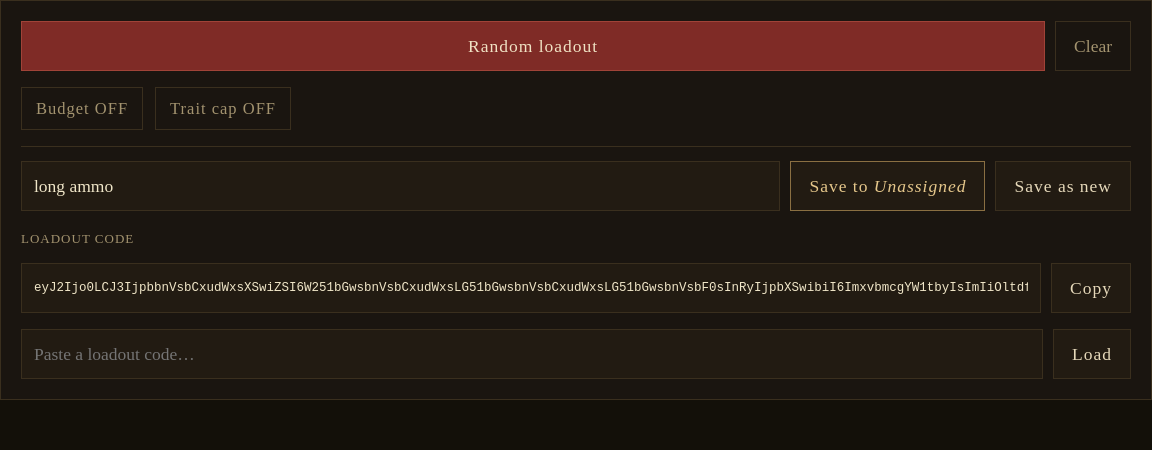
it: Save as new (issue #136 follow-up) › saves without id, and re-points the session at the new record
Step 1. Click the button "Save as new" → [1063, 186], box [996,161,1131,211]
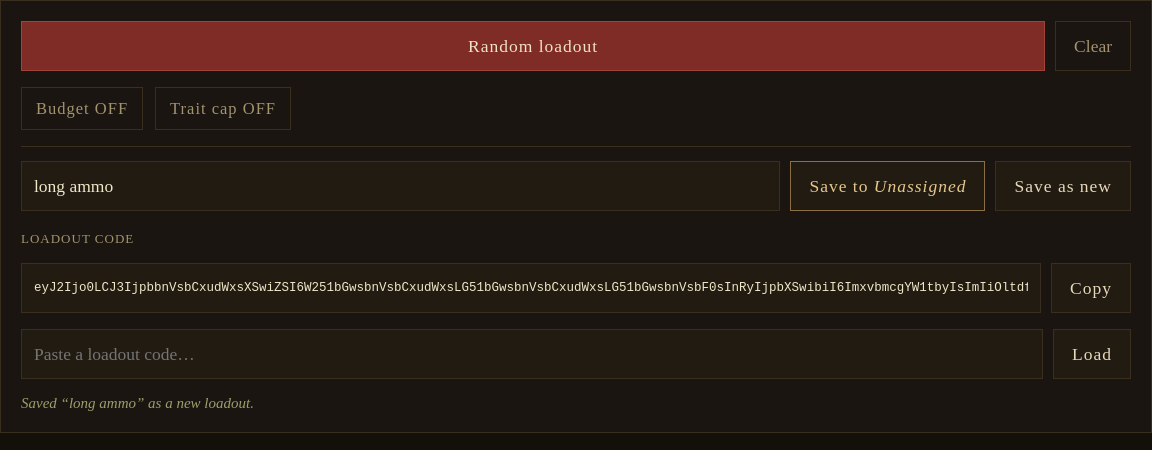
Expected: the text "Saved “long ammo” as a new loadout." is shown, [21,395,254,411]
